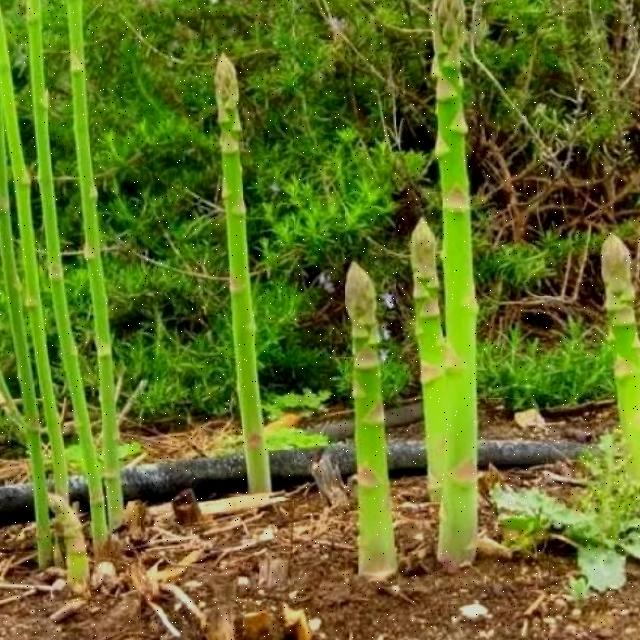aspargus: (422, 0, 484, 570), (213, 54, 269, 495), (346, 264, 396, 578)
